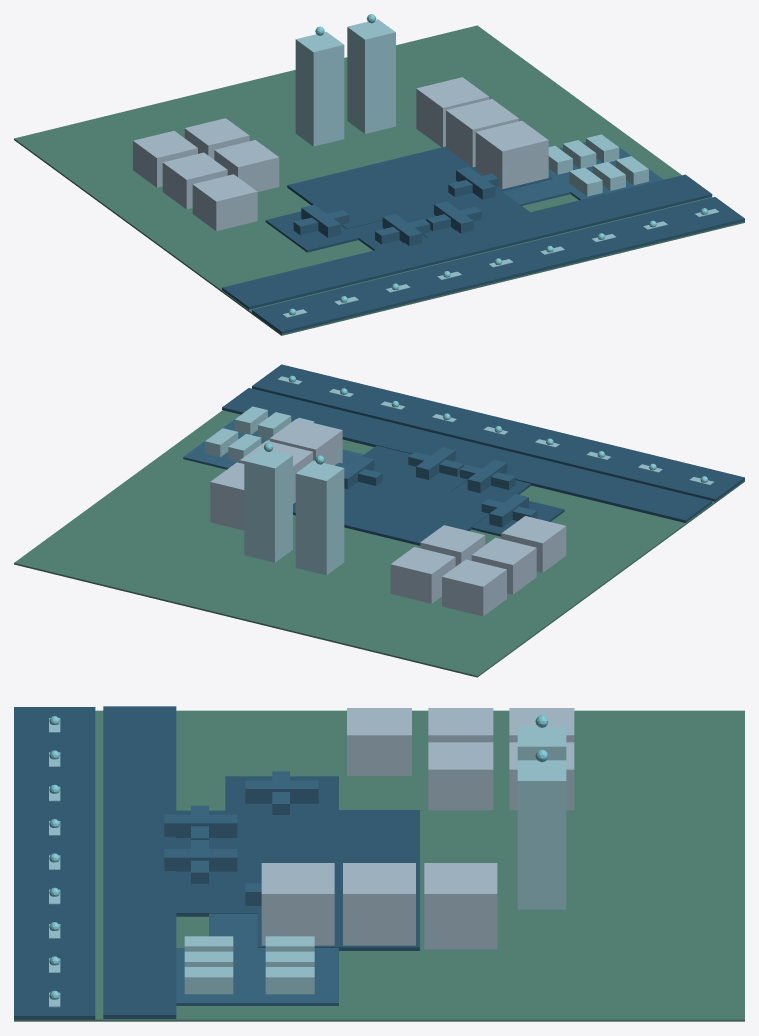
The model's file is stage_22.glb.
The picture shows the model from 3 angles, top to bottom: view 1: azimuth 30°, elevation 25°; view 2: azimuth 150°, elevation 25°; view 3: azimuth 270°, elevation 25°; orthographic projection. The views are drawn at different scales.
Parts seen in each view (by area): view 1: geometry_0; view 2: geometry_0; view 3: geometry_0.
Boxes of the visible parts, x1,y1,x2,y2 form: geometry_0: [14, 14, 744, 335]; geometry_0: [14, 364, 744, 677]; geometry_0: [14, 706, 744, 1021].
Size of the model in its own units: 9 by 2.06 by 9.
